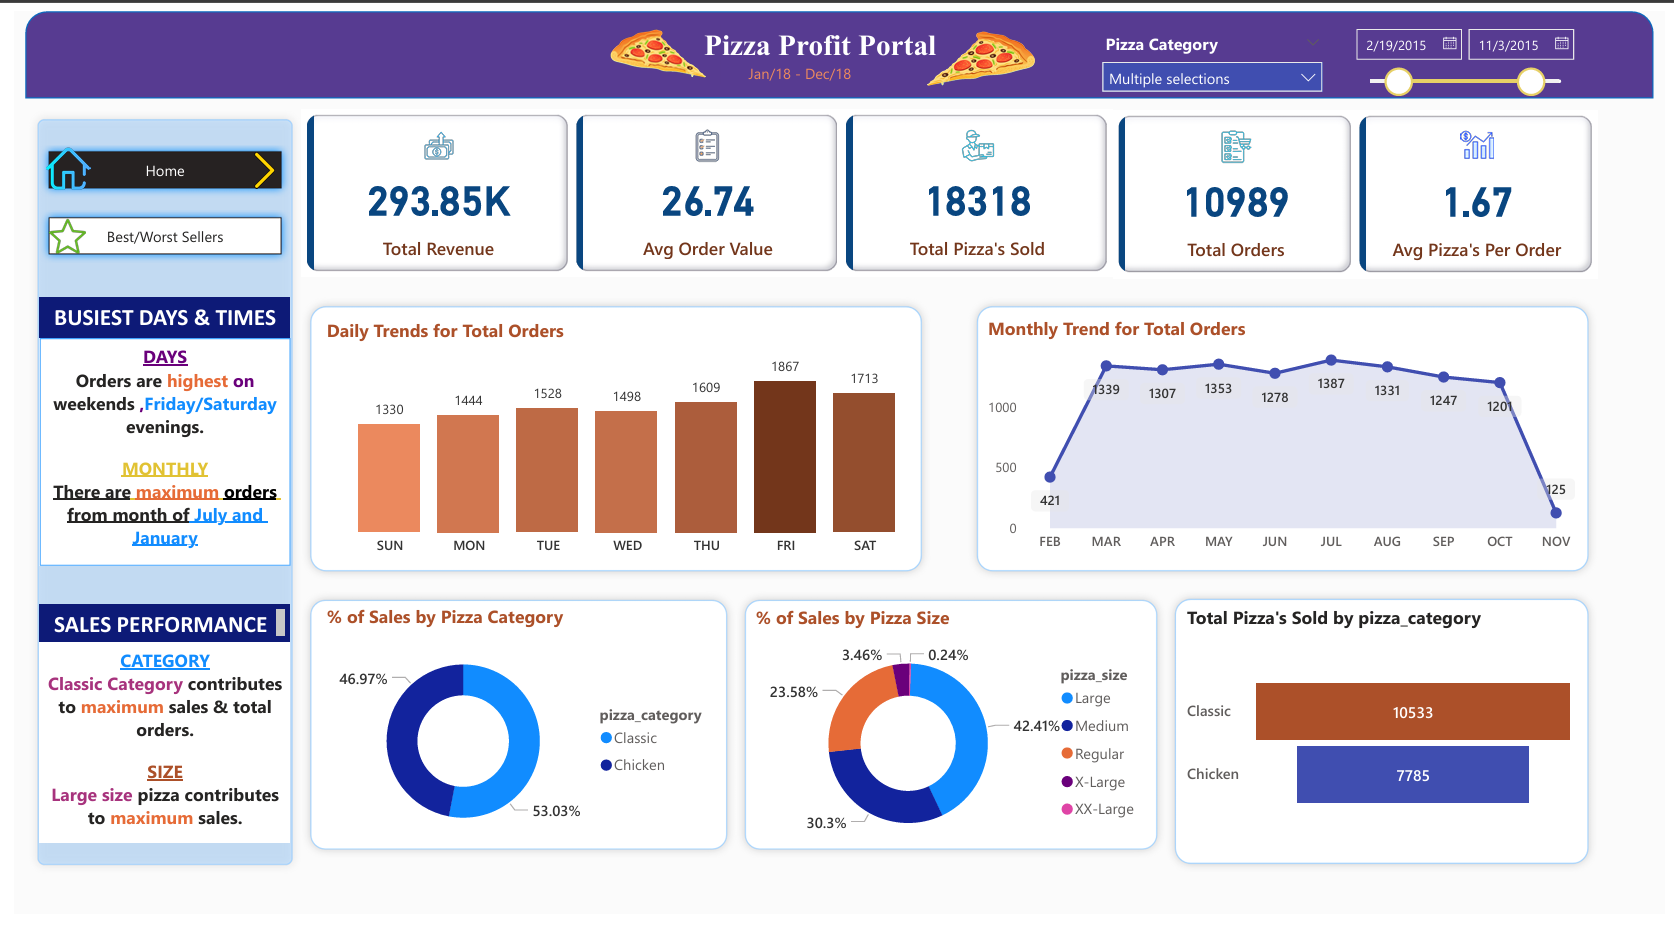

The page's visual inventory and layout, read from the dashboard file:
{"tool":"powerbi","page":{"name":"Home","canvas":[1500,820],"ordinal":0},"visuals":[{"type":"shape","box":[12.9,90,248.6,694.3],"z":0},{"type":"textbox","box":[22.9,260,228.6,37.1],"z":1000},{"type":"cardVisual","fields":{"Data":["pizza_sales.Total Revenue","pizza_sales.Avg Order Value","pizza_sales.Total Pizza's Sold"]},"box":[261.4,88.6,737.1,152.9],"z":2000},{"type":"cardVisual","fields":{"Data":["pizza_sales.Total Orders","pizza_sales.Avg Pizza's Per Order"]},"box":[998.6,90,440,152.9],"z":3000},{"type":"shape","box":[10,0,1480,78.6],"z":4000},{"type":"textbox","box":[486.2,11.2,492.5,42.5],"z":5000},{"type":"image","box":[518.8,0,128.8,78.8],"z":6000},{"type":"textbox","box":[393,42,642,37],"z":7000},{"type":"image","box":[769,11,210,68],"z":8000},{"type":"shape","box":[261.4,260,571.4,257.1],"z":9000},{"type":"columnChart","title":"Daily Trends for Total Orders","fields":{"Category":["pizza_sales.Order Day"],"Y":["pizza_sales.Total Orders"]},"box":[278.6,278.6,557.1,225.7],"z":10000},{"type":"shape","box":[867.1,260,571.4,257.1],"z":11000},{"type":"areaChart","title":"Monthly Trend for Total Orders","fields":{"Y":["pizza_sales.Total Orders"],"Category":["pizza_sales.Order Month"]},"box":[880,277.1,547.1,222.9],"z":12000},{"type":"shape","box":[261.4,527.1,394.3,242.9],"z":13000},{"type":"shape","box":[1047.1,525.7,391.4,257.1],"z":14000},{"type":"shape","box":[655.7,527.1,391.4,242.9],"z":15000},{"type":"donutChart","title":"% of Sales by Pizza Category","fields":{"Category":["pizza_sales.pizza_category"],"Y":["pizza_sales.Total Revenue"]},"box":[278.6,538.6,367.1,228.6],"z":16000},{"type":"donutChart","title":"% of Sales by Pizza Size","fields":{"Y":["pizza_sales.Total Revenue"],"Category":["pizza_sales.pizza_size"]},"box":[668.6,540,367.1,230],"z":17000},{"type":"funnel","fields":{"Category":["pizza_sales.pizza_category"],"Y":["pizza_sales.Total Pizza's Sold"]},"box":[1061.4,540,362.9,228.6],"z":18000},{"type":"textbox","box":[22.9,297.1,228.6,207.1],"z":19000},{"type":"textbox","box":[22.9,538.6,228.6,35.7],"z":20000},{"type":"textbox","box":[22.9,574.3,228.6,181.4],"z":21000},{"type":"slicer","fields":{"Values":["pizza_sales.pizza_category"]},"box":[978.6,14.3,220,90],"z":22000},{"type":"slicer","fields":{"Values":["pizza_sales.order_date"]},"box":[1207.1,5.7,220,78.6],"z":23000},{"type":"pageNavigator","box":[22.9,118.6,228.6,50],"z":24000},{"type":"pageNavigator","box":[22.9,178.6,228.6,50],"z":25000},{"type":"image","box":[192.9,122.9,68.6,42.9],"z":26000},{"type":"image","box":[24.3,112.9,50,60],"z":27000},{"type":"image","box":[12.9,182.9,70,42.9],"z":28000}]}

Visuals, with their boxes in screenshot pixels (x1, y1, x2, y2), scaled from the page's 1500x820 canvas onto the 1674x940 screenshot:
shape: [x1=14, y1=103, x2=292, y2=899]
textbox: [x1=26, y1=298, x2=281, y2=341]
cardVisual - pizza_sales.Total Revenue x pizza_sales.Avg Order Value: [x1=292, y1=102, x2=1114, y2=277]
cardVisual - pizza_sales.Total Orders x pizza_sales.Avg Pizza's Per Order: [x1=1114, y1=103, x2=1605, y2=278]
shape: [x1=11, y1=0, x2=1663, y2=90]
textbox: [x1=543, y1=13, x2=1092, y2=62]
image: [x1=579, y1=0, x2=723, y2=90]
textbox: [x1=439, y1=48, x2=1155, y2=91]
image: [x1=858, y1=13, x2=1093, y2=91]
shape: [x1=292, y1=298, x2=929, y2=593]
"Daily Trends for Total Orders" columnChart: [x1=311, y1=319, x2=933, y2=578]
shape: [x1=968, y1=298, x2=1605, y2=593]
"Monthly Trend for Total Orders" areaChart: [x1=982, y1=318, x2=1593, y2=573]
shape: [x1=292, y1=604, x2=732, y2=883]
shape: [x1=1169, y1=603, x2=1605, y2=897]
shape: [x1=732, y1=604, x2=1169, y2=883]
"% of Sales by Pizza Category" donutChart: [x1=311, y1=617, x2=721, y2=879]
"% of Sales by Pizza Size" donutChart: [x1=746, y1=619, x2=1156, y2=883]
funnel - pizza_sales.pizza_category x pizza_sales.Total Pizza's Sold: [x1=1185, y1=619, x2=1590, y2=881]
textbox: [x1=26, y1=341, x2=281, y2=578]
textbox: [x1=26, y1=617, x2=281, y2=658]
textbox: [x1=26, y1=658, x2=281, y2=866]
slicer - pizza_sales.pizza_category: [x1=1092, y1=16, x2=1338, y2=120]
slicer - pizza_sales.order_date: [x1=1347, y1=7, x2=1593, y2=97]
pageNavigator: [x1=26, y1=136, x2=281, y2=193]
pageNavigator: [x1=26, y1=205, x2=281, y2=262]
image: [x1=215, y1=141, x2=292, y2=190]
image: [x1=27, y1=129, x2=83, y2=198]
image: [x1=14, y1=210, x2=93, y2=259]
